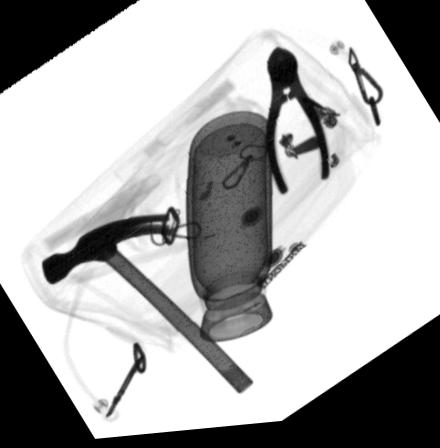Hammer: (43, 217, 254, 398)
Pliers: (264, 50, 331, 201)
